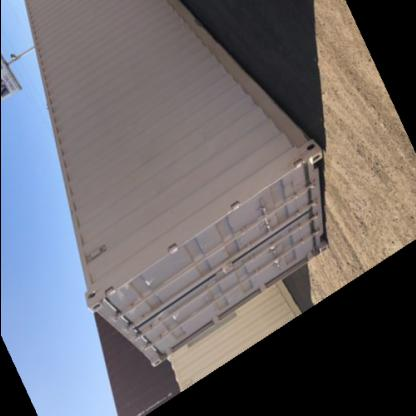Damage: (152, 25, 182, 59)
